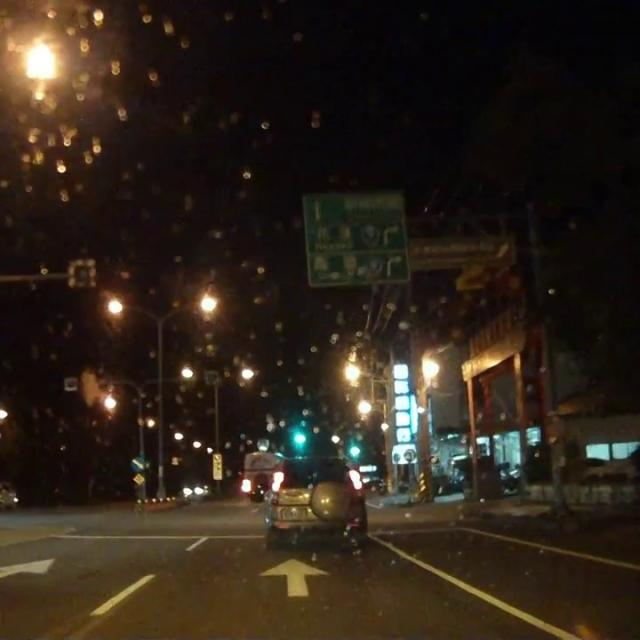Car: (263, 455, 369, 553), (0, 479, 22, 510), (179, 479, 205, 500)
